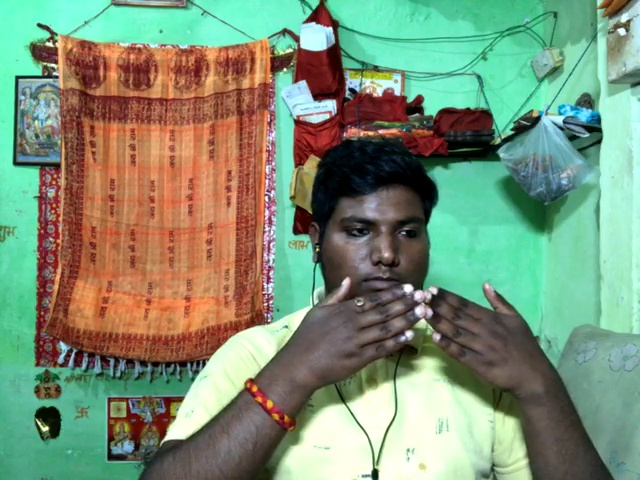Thanks: (220, 266, 589, 393)
